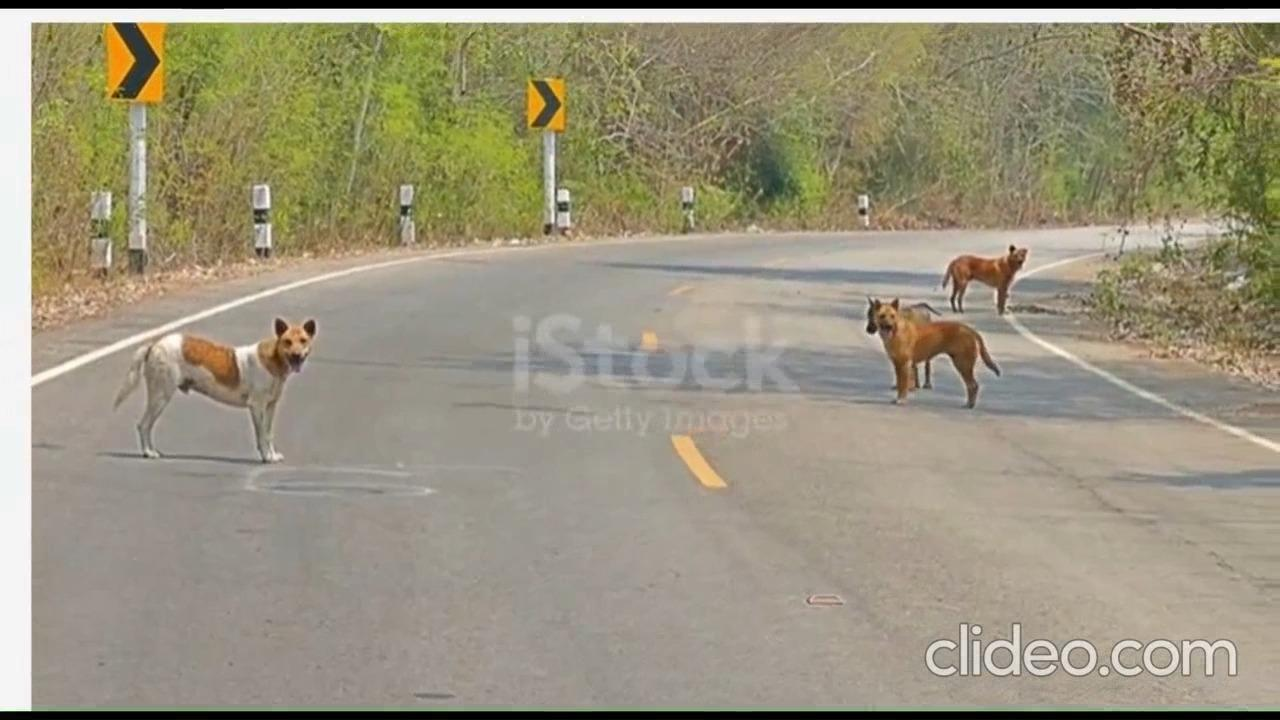dog: (116, 315, 322, 465), (866, 297, 1006, 411), (944, 248, 1033, 321)
